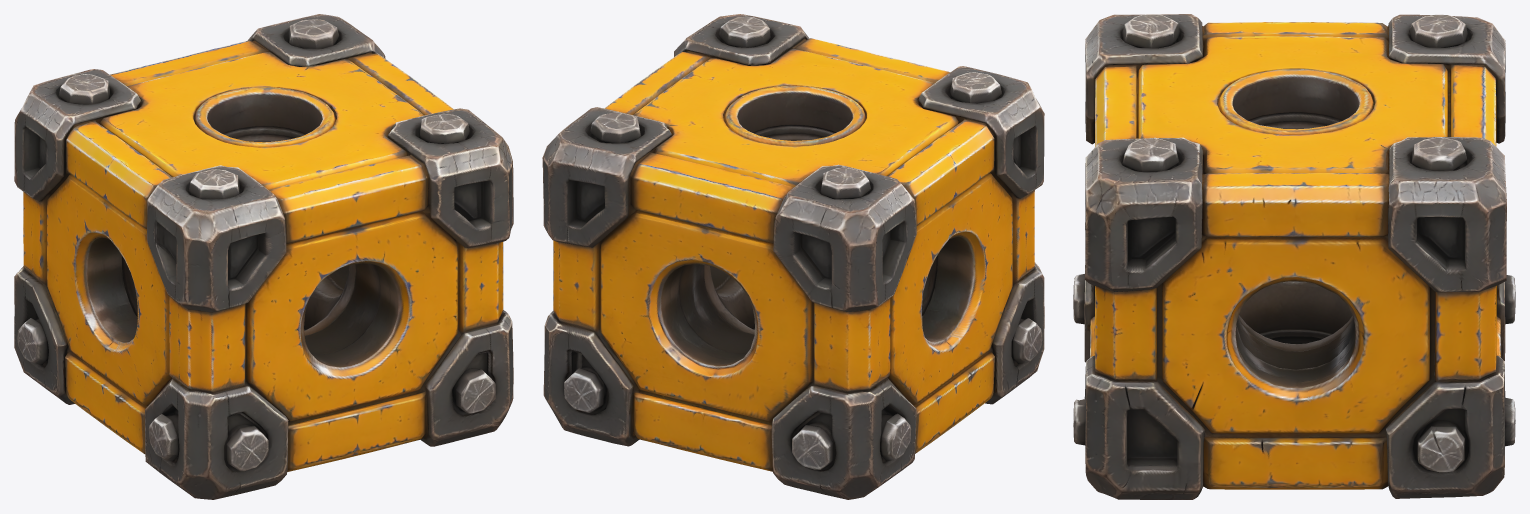
The model's file is base_basic_shaded.glb.
The picture shows the model from 3 angles, left to right: view 1: azimuth 30°, elevation 25°; view 2: azimuth 150°, elevation 25°; view 3: azimuth 270°, elevation 25°; orthographic projection. The views are drawn at different scales.
Parts seen in each view (by area): view 1: model; view 2: model; view 3: model.
Part boxes in pixels (x1,y1,x2,y2): model: [14, 14, 513, 499]; model: [542, 14, 1044, 499]; model: [1073, 14, 1515, 499].
Size of the model in its own units: 1.9 by 1.62 by 1.9.
Materials: 1 (1 with a texture image).
